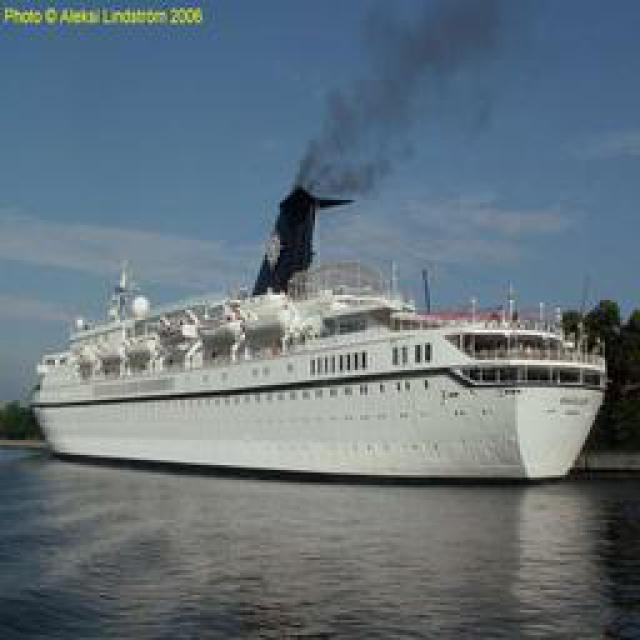Ship: (29, 250, 614, 485)
